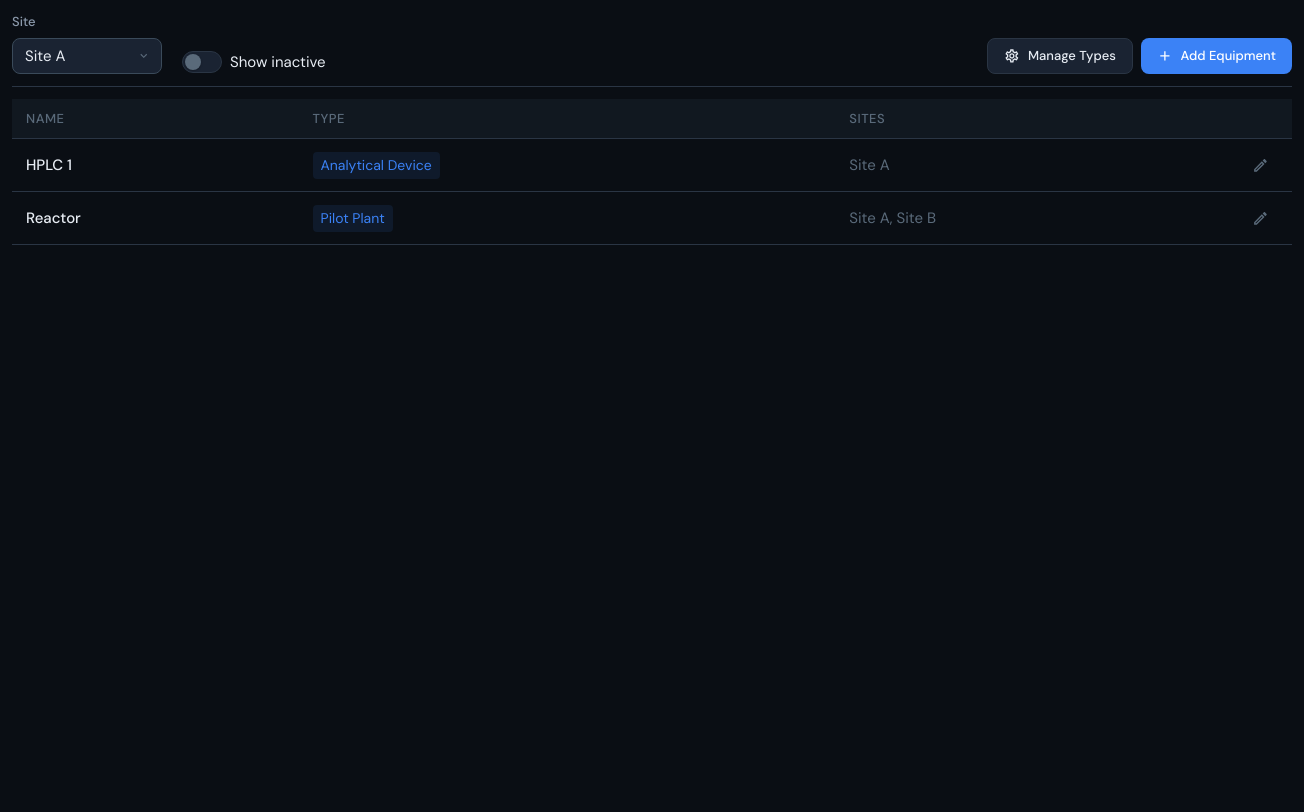
it: EquipmentPanel › requires at least one site
This screenshot has width=1304, height=812.
Check: the text "Reactor" is shown, box [26,207,81,229]
Click the button named "Edit Reactor": {"x": 1260, "y": 218} [1246,204,1274,232]
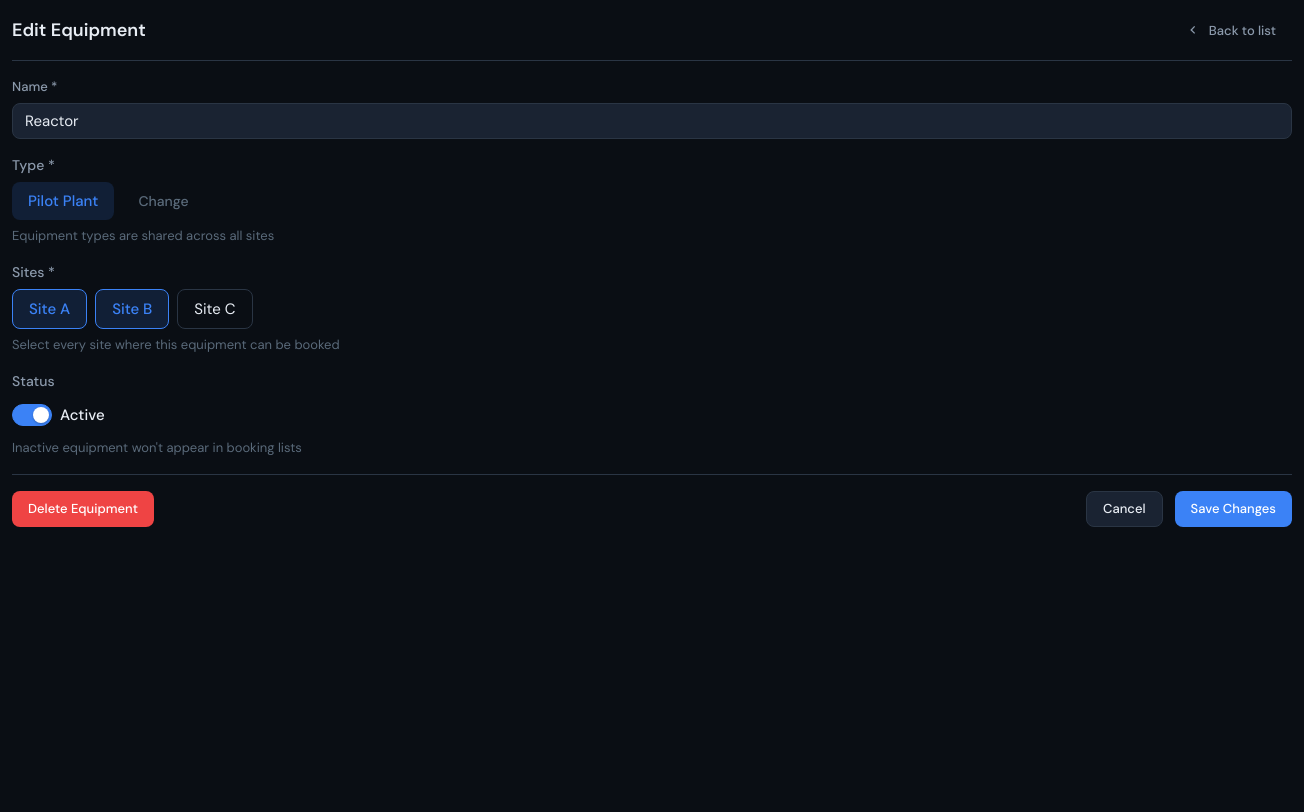
Check: the checkbox labelled "Site A" is checked
Check: the checkbox labelled "Site B" is checked, box [95,288,169,329]
Click the checkbox labelled "Site A": {"x": 50, "y": 309} [12,288,87,329]
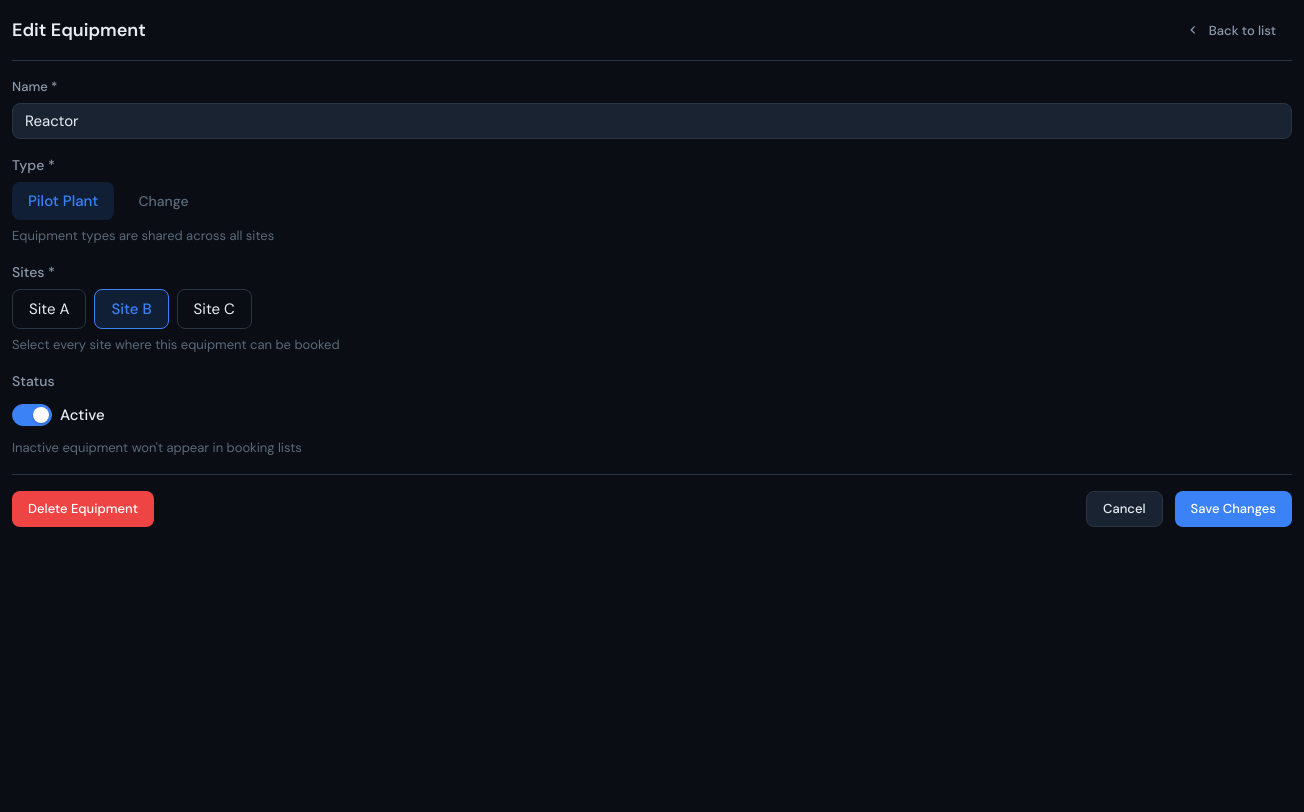
Click the checkbox labelled "Site B": {"x": 132, "y": 309} [94,288,169,329]
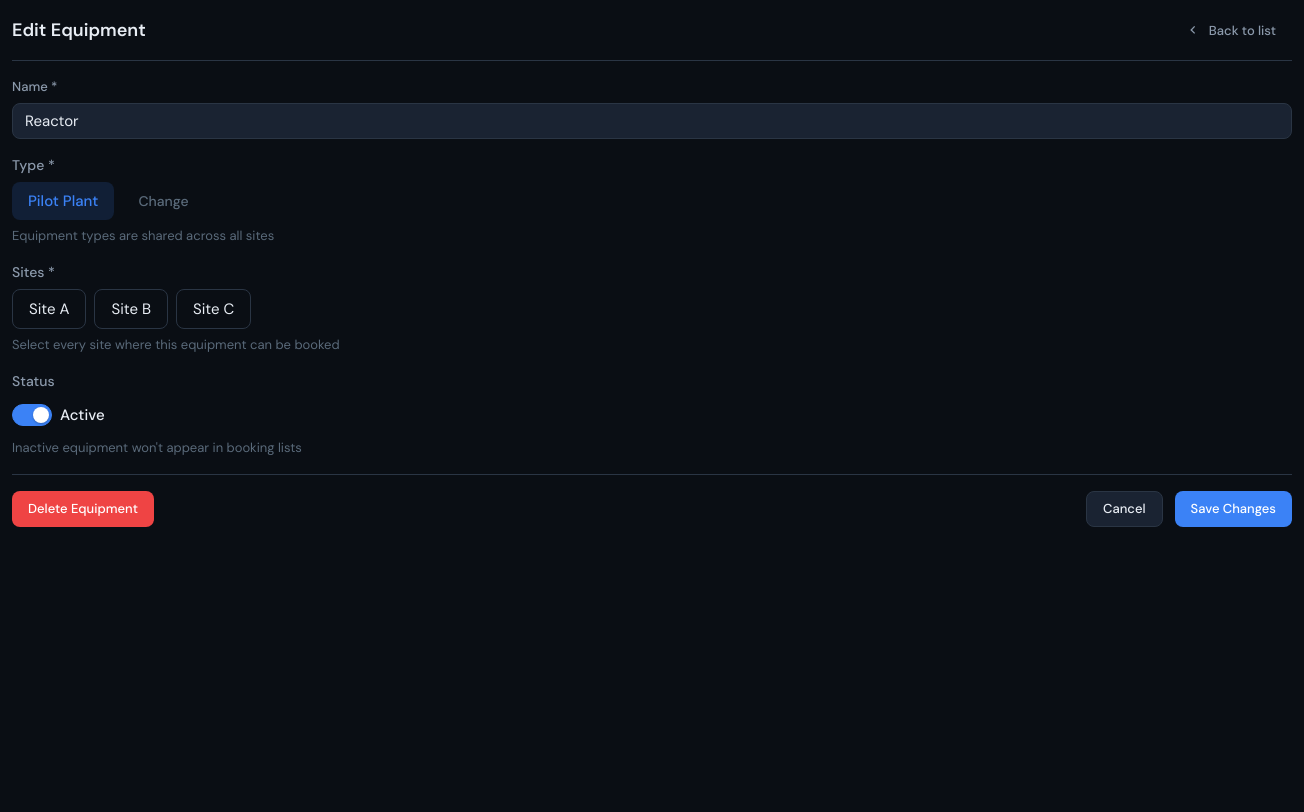
Click the button "Save Changes": {"x": 1233, "y": 508} [1175,490,1292,526]
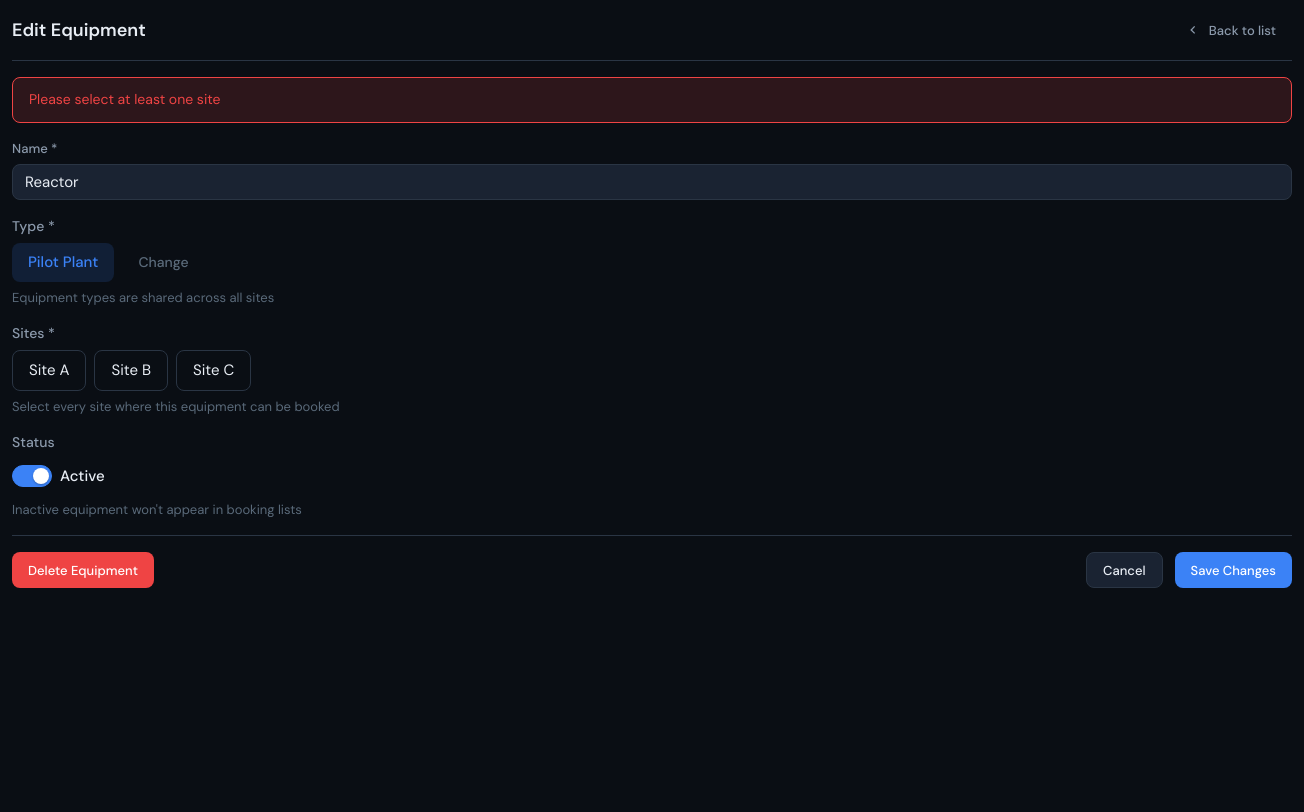
Check: the text "Please select at least one site" is shown, box [29,90,220,108]
